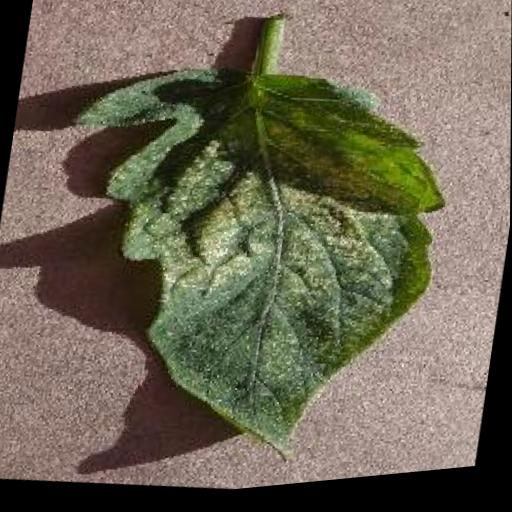Spider Mites: (27, 35, 463, 500)
